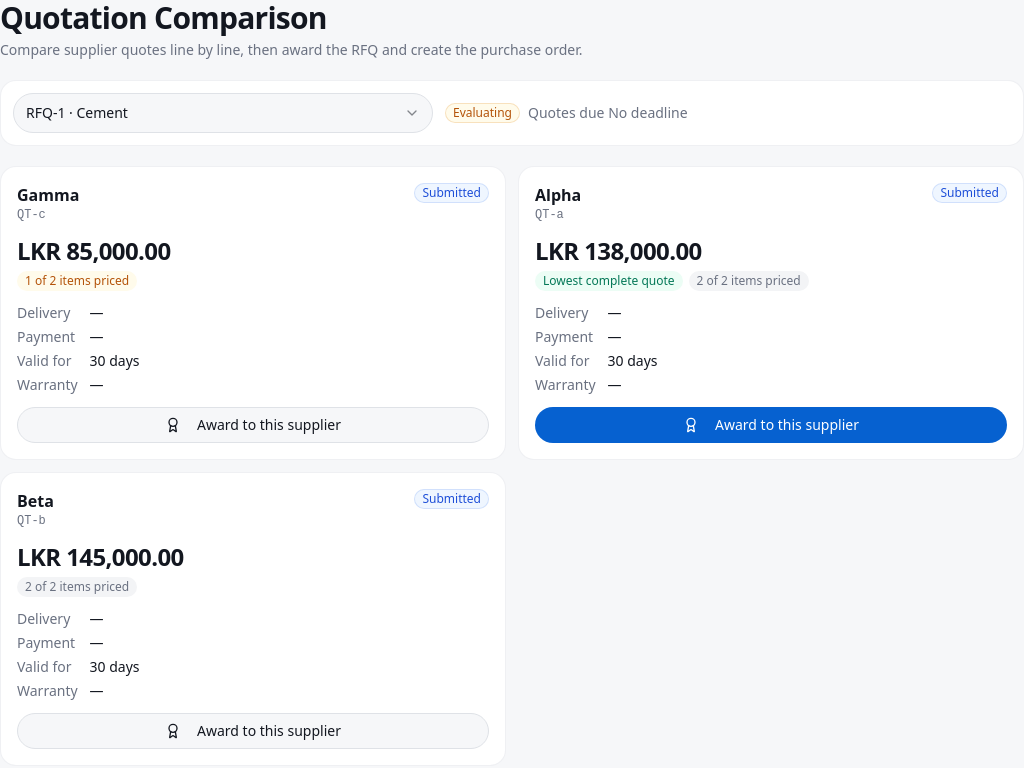
Test case: QuotationComparison › awards with a draft PO by default
Later steps or results of the test are not shown.
Click the button "Award to this supplier" below "Lowest complete quote" at (771,425), box [535,407,1007,443]
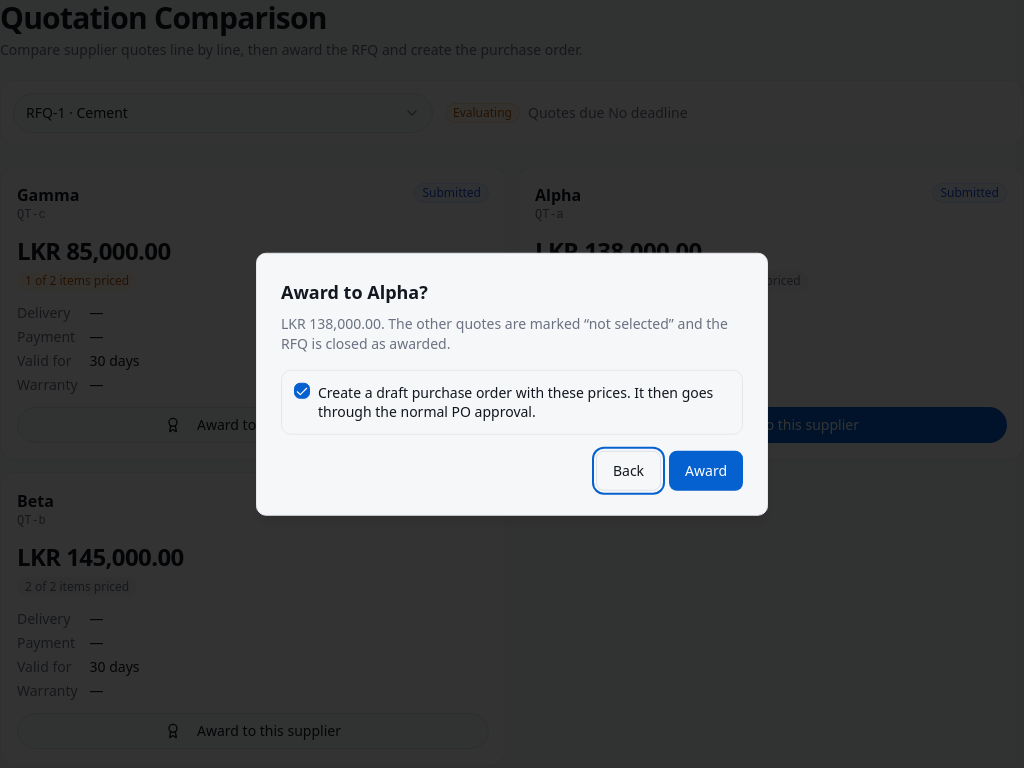
Check: the heading "Award to Alpha?" is shown, box [281,280,428,304]
Check: the checkbox is checked, box [294,383,310,399]
